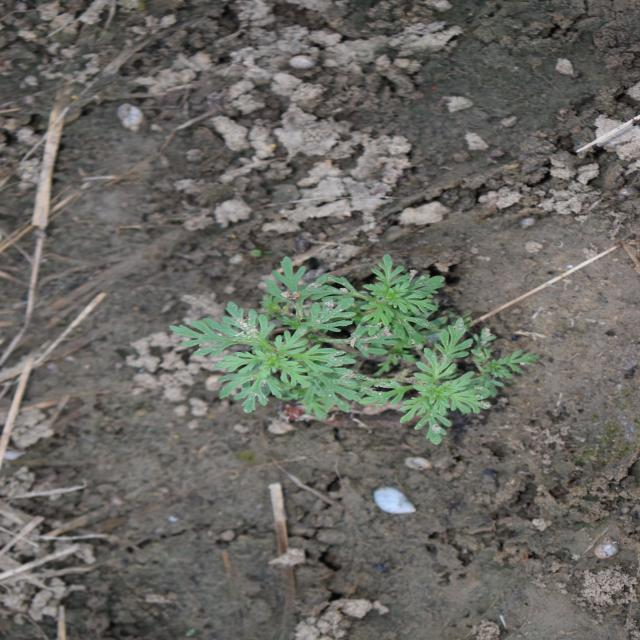Ragweed: (166, 252, 542, 448)
